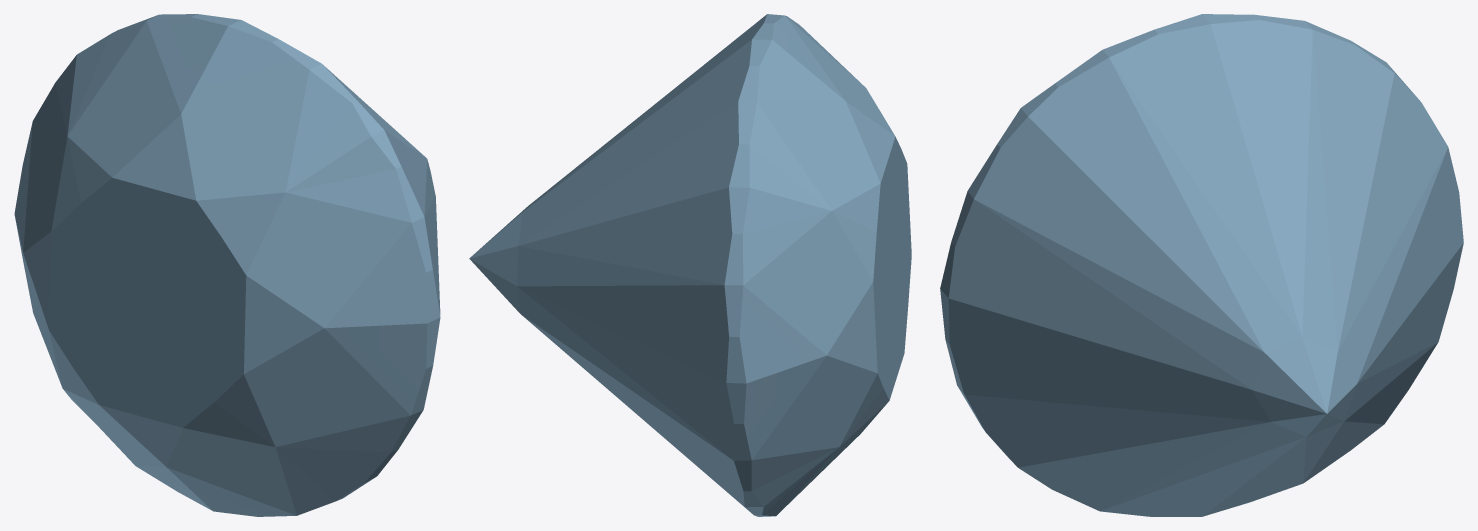
File: BL5_8shapes_Round_Classic_Stone.001 3.glb
The picture shows the model from 3 angles, left to right: view 1: azimuth 30°, elevation 25°; view 2: azimuth 150°, elevation 25°; view 3: azimuth 270°, elevation 25°; orthographic projection. The views are drawn at different scales.
Parts seen in each view (by area): view 1: BL5_8shapes_Round_Classic_Stone.001; view 2: BL5_8shapes_Round_Classic_Stone.001; view 3: BL5_8shapes_Round_Classic_Stone.001.
Boxes of the visible parts, x1,y1,x2,y2 form: BL5_8shapes_Round_Classic_Stone.001: [14, 14, 440, 516]; BL5_8shapes_Round_Classic_Stone.001: [469, 14, 911, 516]; BL5_8shapes_Round_Classic_Stone.001: [940, 14, 1463, 516].
Size of the model in its own units: 0.4307 by 0.4837 by 0.4559.
